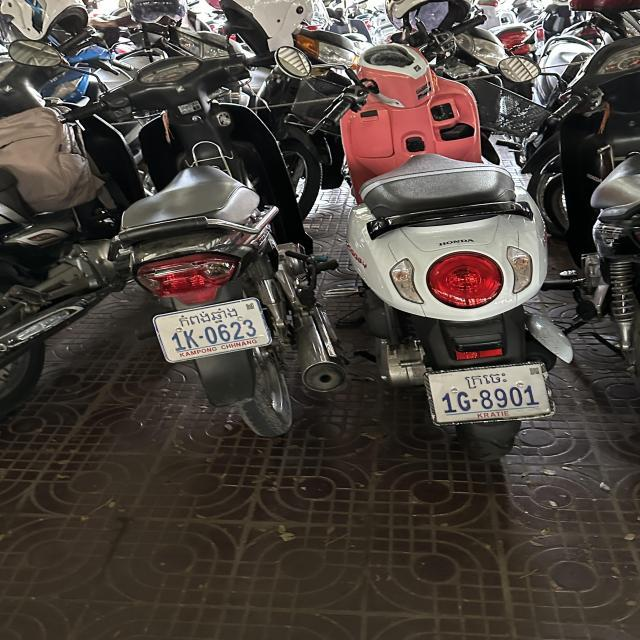Kampong_Chhnang: (177, 307, 242, 327)
Kratie: (465, 371, 510, 389)
